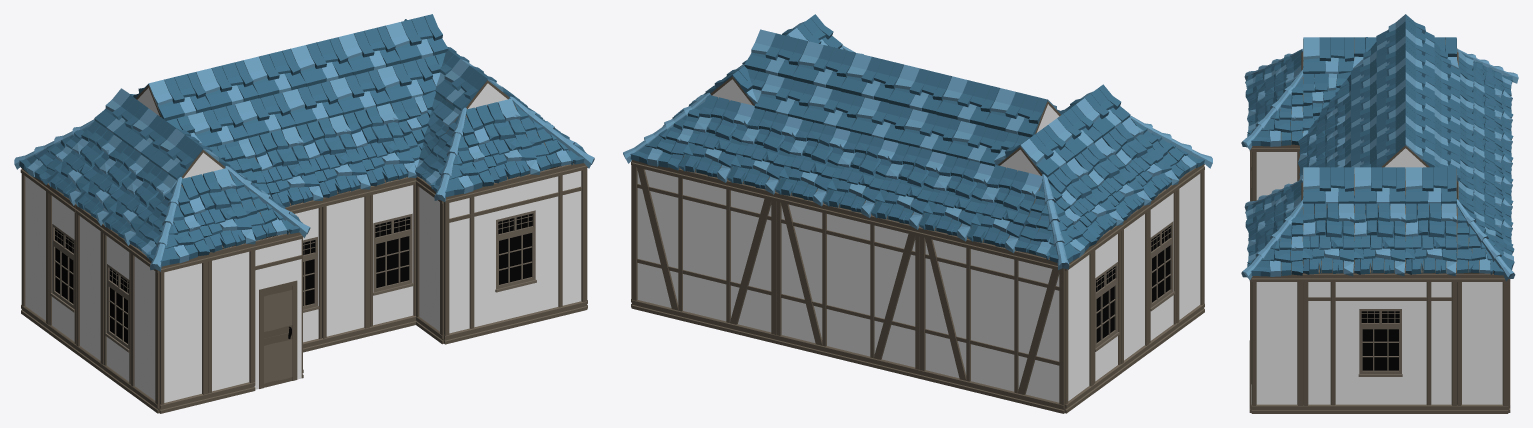
Rendered from House_09_full.fbx.
The picture shows the model from 3 angles, left to right: view 1: azimuth 30°, elevation 25°; view 2: azimuth 150°, elevation 25°; view 3: azimuth 270°, elevation 25°; orthographic projection. The views are drawn at different scales.
Parts seen in each view (by area): view 1: WINDOW_03_2, WALL_03_4, WALL_03_6, WALL_03_3, DOOR_01_3, WINDOW_04_4, WALL_03_7, WALL_03_9, WINDOW_04_6, WALL_03_8, WALL_03_10, WINDOW_04_5 (+32 smaller); view 2: WALL_02_4, WALL_02_2, WALL_02_3, WALL_03_9, WALL_03_8, WALL_03_7, WINDOW_04_5, WINDOW_04_6, ROOF_base_20, ROOF_base_14, ROOF_corner_out_6, ROOF_base_15 (+26 smaller); view 3: WINDOW_03_3, WALL_03_12, WALL_03_11, ROOF_base_11, ROOF_base_12, ROOF_base_13, ROOF_corner_out_5, ROOF_corner_out_7, ROOF_corner_out_3, WALL_03_5, ROOF_inner_corner_3, ROOF_base_small_15 (+45 smaller).
Part boxes in pixels (bbox=[...]): WINDOW_03_2: bbox=[444, 163, 587, 344]; WALL_03_4: bbox=[159, 255, 207, 413]; WALL_03_6: bbox=[322, 188, 370, 347]; WALL_03_3: bbox=[207, 243, 255, 402]; DOOR_01_3: bbox=[254, 232, 302, 389]; WINDOW_04_4: bbox=[369, 177, 416, 335]; WALL_03_7: bbox=[130, 244, 159, 413]; WALL_03_9: bbox=[20, 167, 49, 332]; WINDOW_04_6: bbox=[48, 184, 76, 353]; WALL_03_8: bbox=[75, 204, 103, 373]; WALL_03_10: bbox=[416, 176, 443, 344]; WINDOW_04_5: bbox=[102, 224, 131, 393]; WALL_02_4: bbox=[919, 227, 1064, 413]; WALL_02_2: bbox=[631, 160, 776, 343]; WALL_02_3: bbox=[775, 192, 920, 378]; WALL_03_9: bbox=[1064, 245, 1094, 413]; WALL_03_8: bbox=[1121, 204, 1149, 372]; WALL_03_7: bbox=[1176, 164, 1204, 332]; WINDOW_04_5: bbox=[1148, 184, 1177, 352]; WINDOW_04_6: bbox=[1093, 225, 1121, 392]; ROOF_base_20: bbox=[967, 165, 1042, 253]; ROOF_base_14: bbox=[679, 95, 754, 182]; ROOF_corner_out_6: bbox=[1015, 174, 1097, 269]; ROOF_base_15: bbox=[727, 108, 802, 194]; WINDOW_03_3: bbox=[1303, 273, 1456, 413]; WALL_03_12: bbox=[1457, 273, 1508, 413]; WALL_03_11: bbox=[1251, 274, 1302, 413]; ROOF_base_11: bbox=[1302, 202, 1354, 276]; ROOF_base_12: bbox=[1354, 203, 1405, 276]; ROOF_base_13: bbox=[1405, 203, 1456, 276]; ROOF_corner_out_5: bbox=[1241, 199, 1303, 279]; ROOF_corner_out_7: bbox=[1456, 199, 1515, 281]; ROOF_corner_out_3: bbox=[1241, 69, 1303, 149]; WALL_03_5: bbox=[1251, 144, 1299, 201]; ROOF_inner_corner_3: bbox=[1302, 72, 1351, 136]; ROOF_base_small_15: bbox=[1354, 167, 1405, 205].
Bounding box in the file's own units: 941 × 509 × 541.
